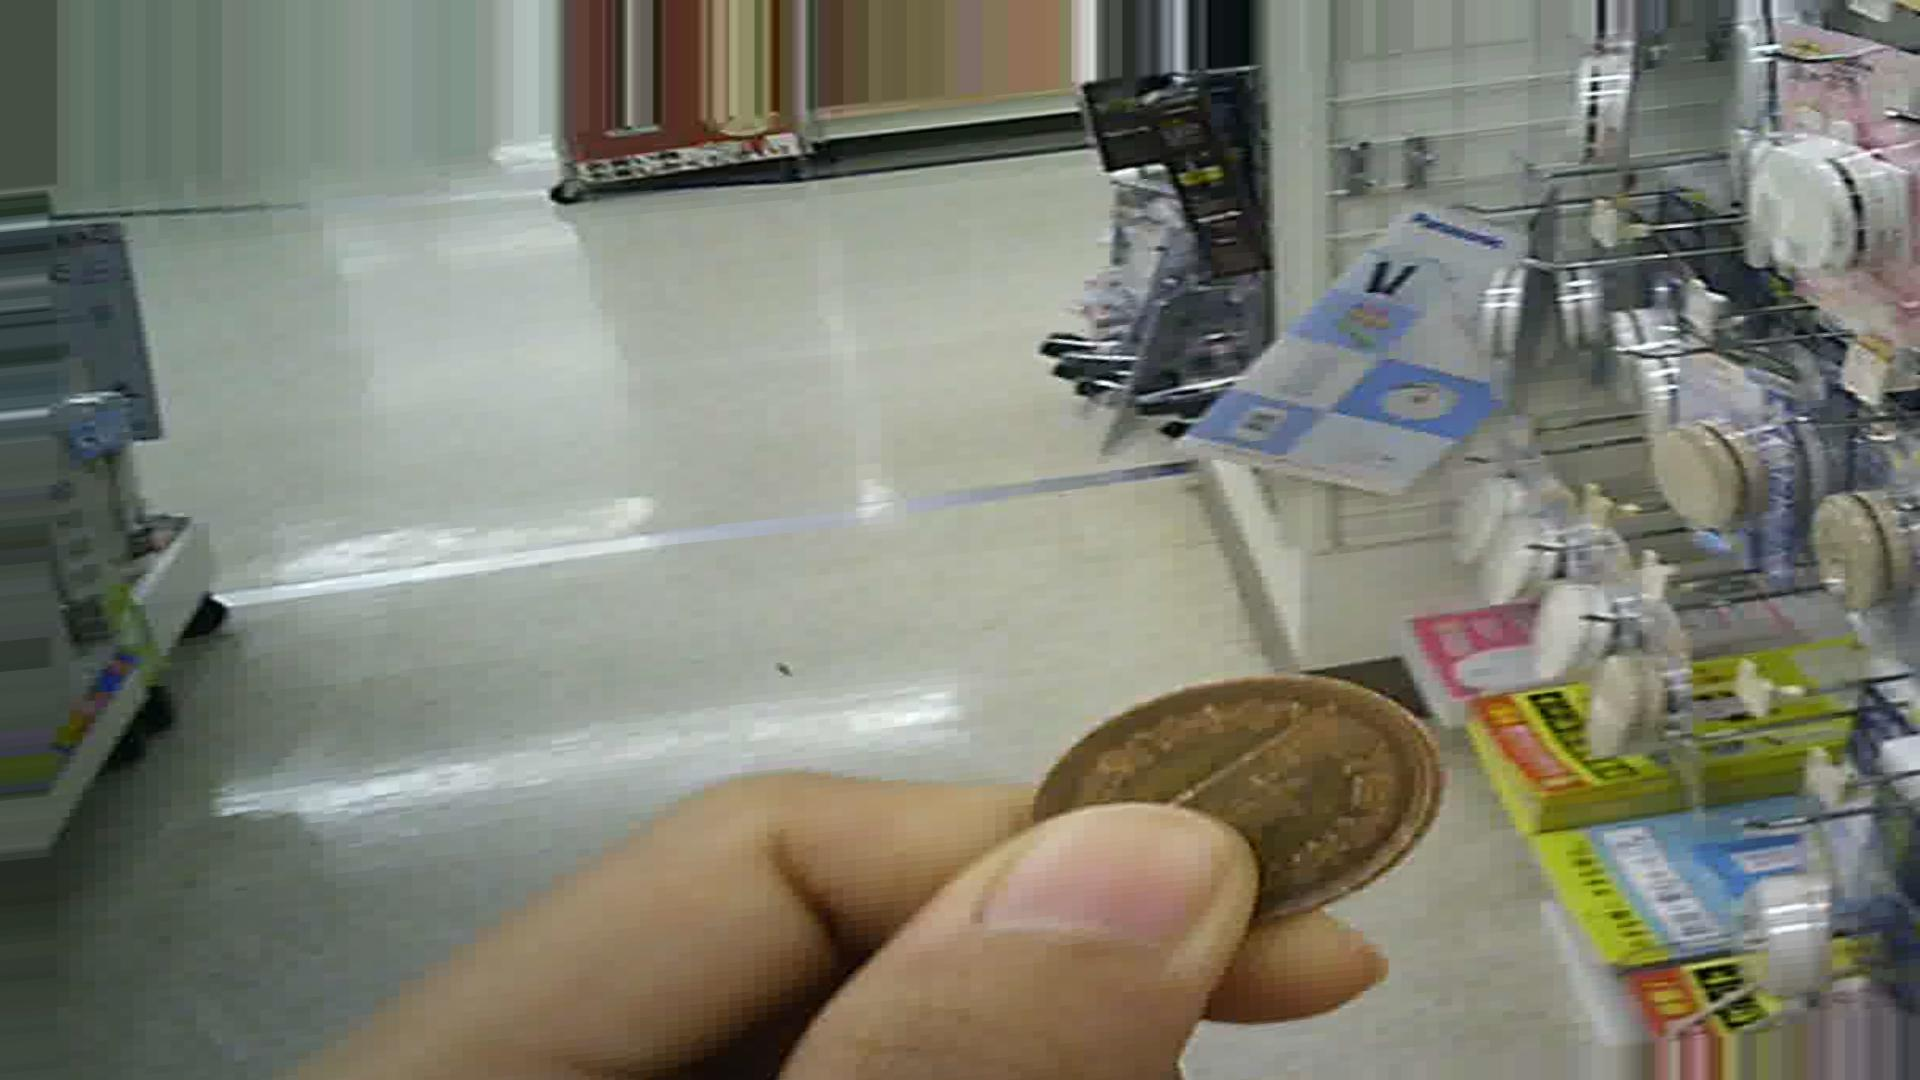10 Yen: (1021, 670, 1437, 942)
